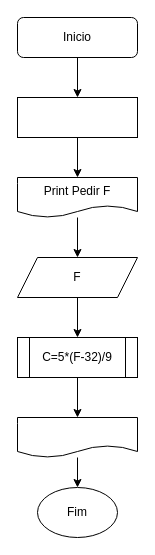
Some shapes in this 155 by 555 pixel diagram are drawn without their labels. The centre of each missing label's shape, as x and y in pixels:
F, C: point 77,117
Print C: point 77,437
